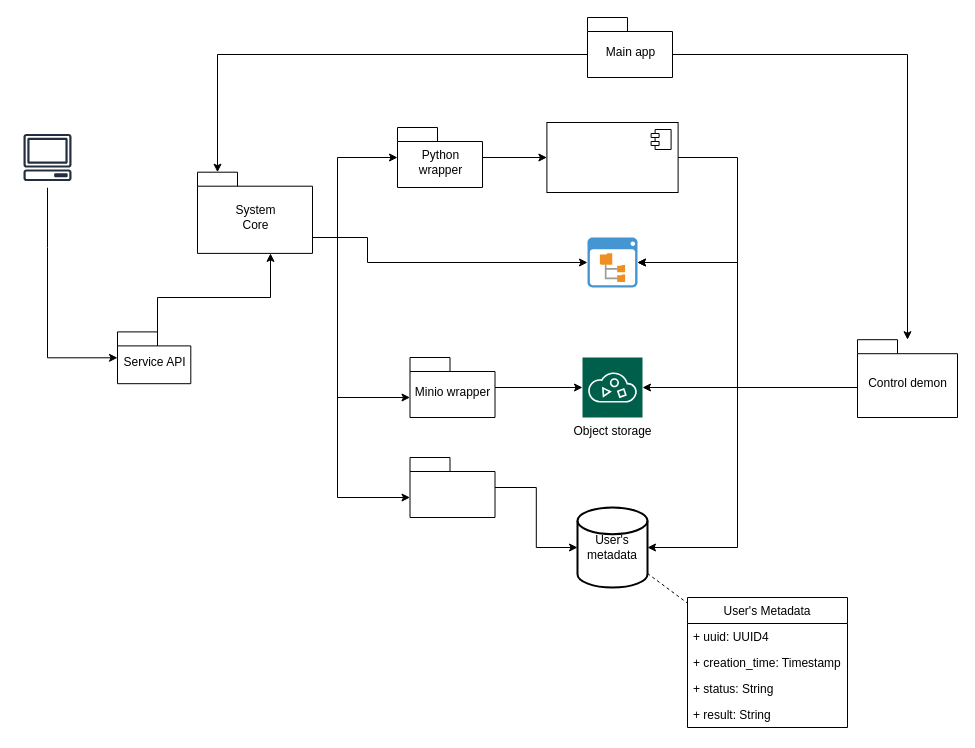
The diagram is 975 pixels wide and 748 high, and some of its shapes have lost their labels. The centre of each missing label's shape, as x and y in pixels:
Client: (x=47, y=157)
DB wrapper: (x=452, y=487)
FileSystem: (x=612, y=262)
Python NLP: (x=612, y=157)
